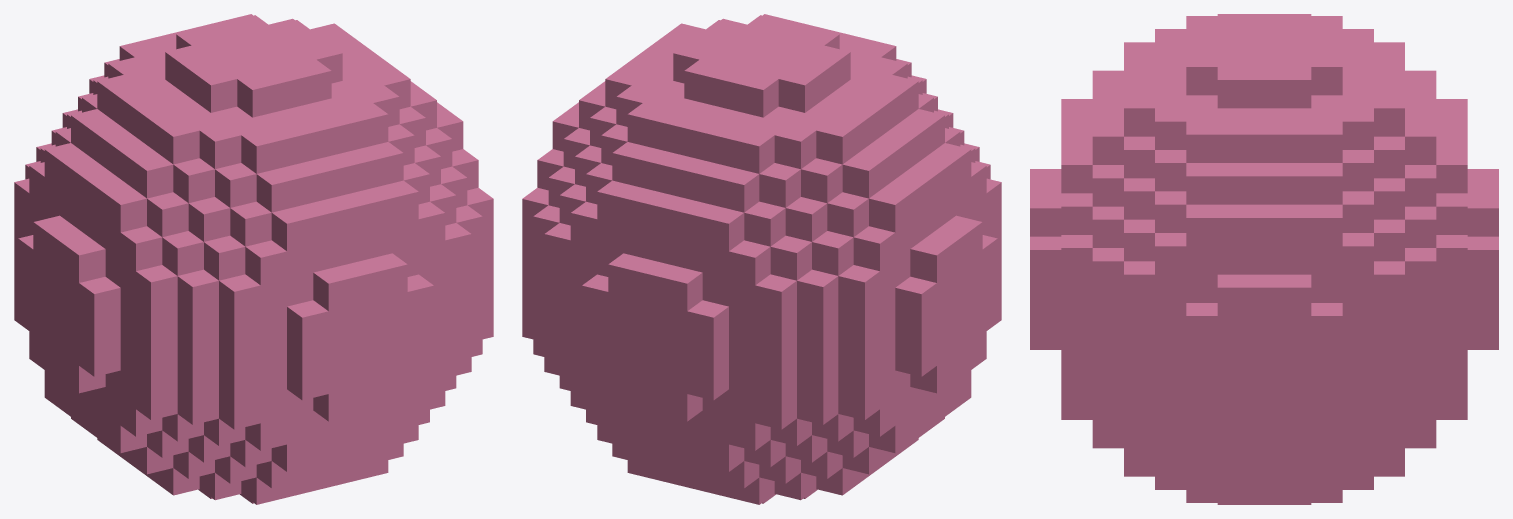
File: Pink Ball.fbx
3 renders of one model, left to right at view 1: azimuth 30°, elevation 25°; view 2: azimuth 150°, elevation 25°; view 3: azimuth 270°, elevation 25°, orthographic. The views are drawn at different scales.
Visible parts, largest first — view 1: Untitled.001; view 2: Untitled.001; view 3: Untitled.001.
Part boxes in pixels (x1,y1,x2,y2): Untitled.001: [14, 14, 493, 504]; Untitled.001: [522, 14, 1001, 504]; Untitled.001: [1030, 14, 1498, 504].
Size of the model in its own units: 150 by 150 by 150.
